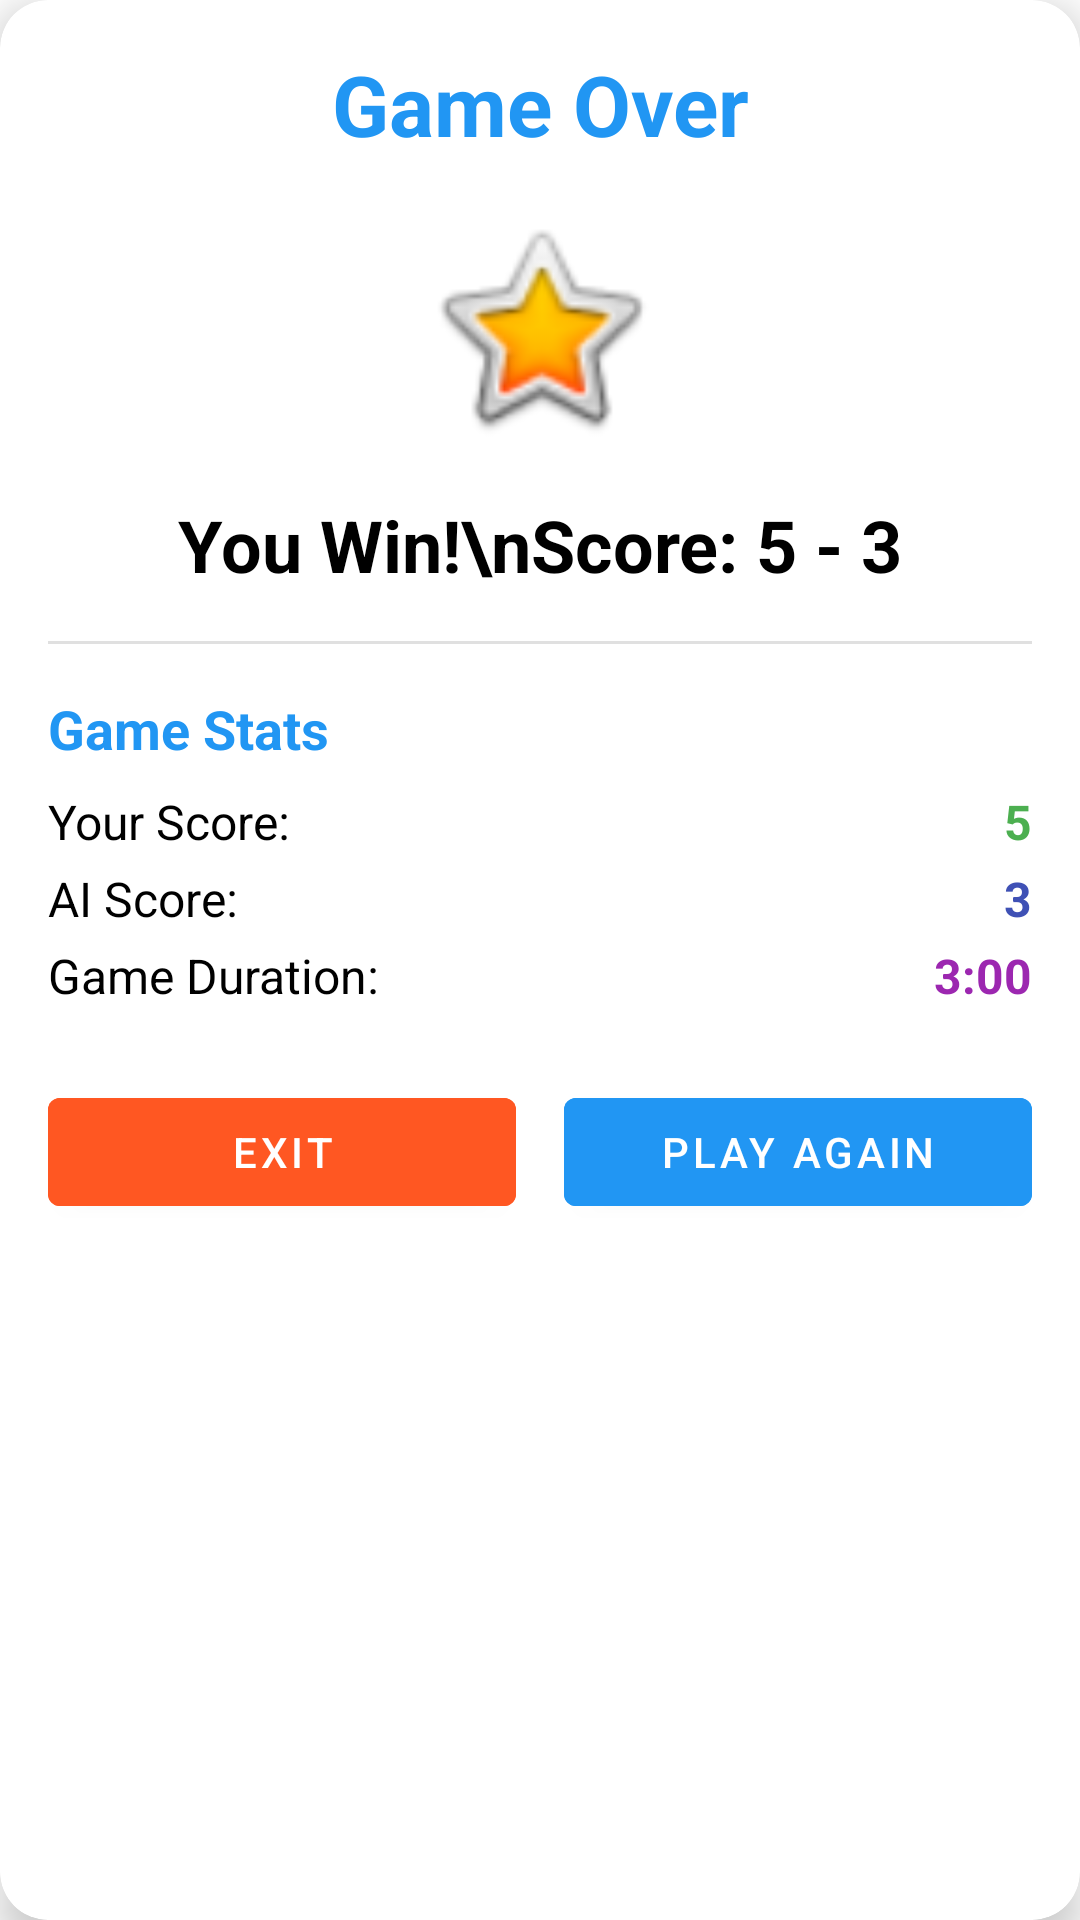

Screen size 1080px×1920px. Icon name, then its center in pixels as (x=x, y=y):
star on: (x=542, y=330)
